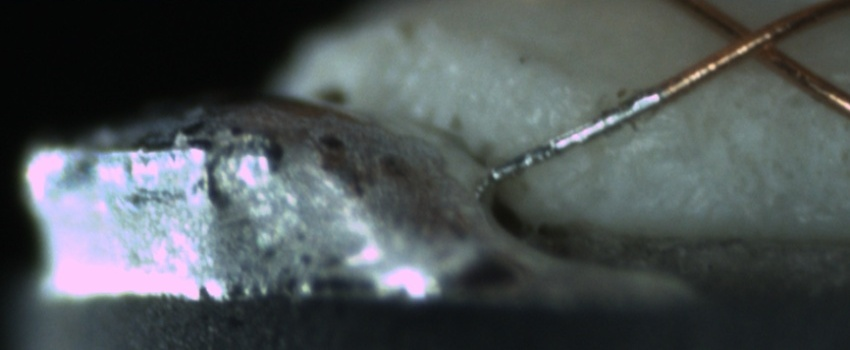CL: (705, 8, 805, 76)
TS: (491, 85, 665, 184)
